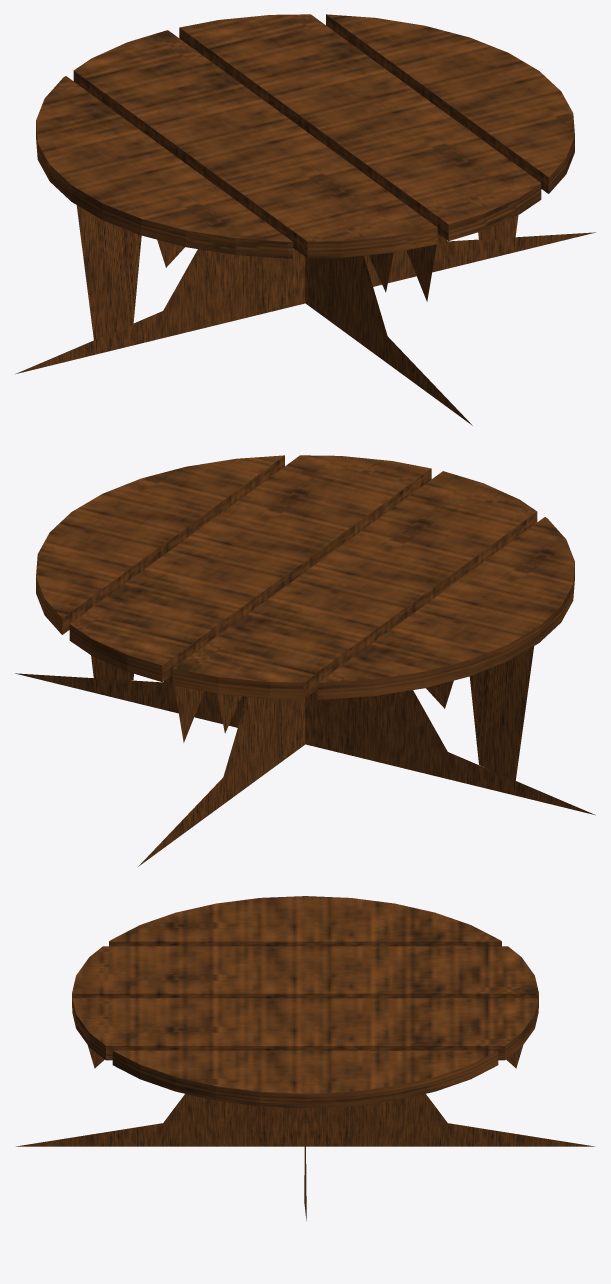
File: Table.glb
The picture shows the model from 3 angles, top to bottom: view 1: azimuth 30°, elevation 25°; view 2: azimuth 150°, elevation 25°; view 3: azimuth 270°, elevation 25°; orthographic projection. The views are drawn at different scales.
Visible parts, largest first — view 1: Top, Leg_x, Leg_y; view 2: Top, Leg_x, Leg_y; view 3: Top, Leg_y.
Part boxes in pixels (x1,y1,x2,y2): Top: (36,14,574,258); Leg_x: (15,205,595,374); Leg_y: (305,234,472,425); Top: (36,455,574,699); Leg_x: (15,646,595,815); Leg_y: (138,675,305,866); Top: (72,896,538,1108); Leg_y: (16,1045,594,1146).
Size of what is drawn, in the model's own units: 3.64 by 1.05 by 3.64.
1 material, 1 textured.
